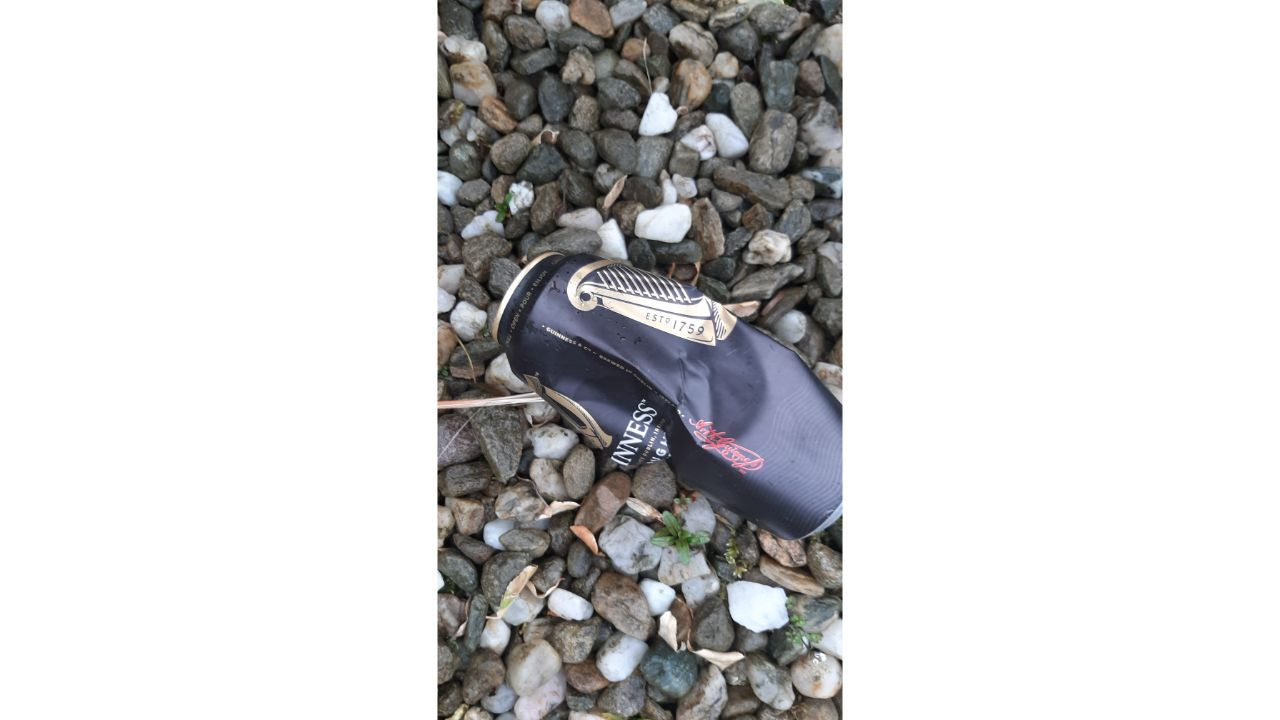Can: (490, 251, 843, 540)
